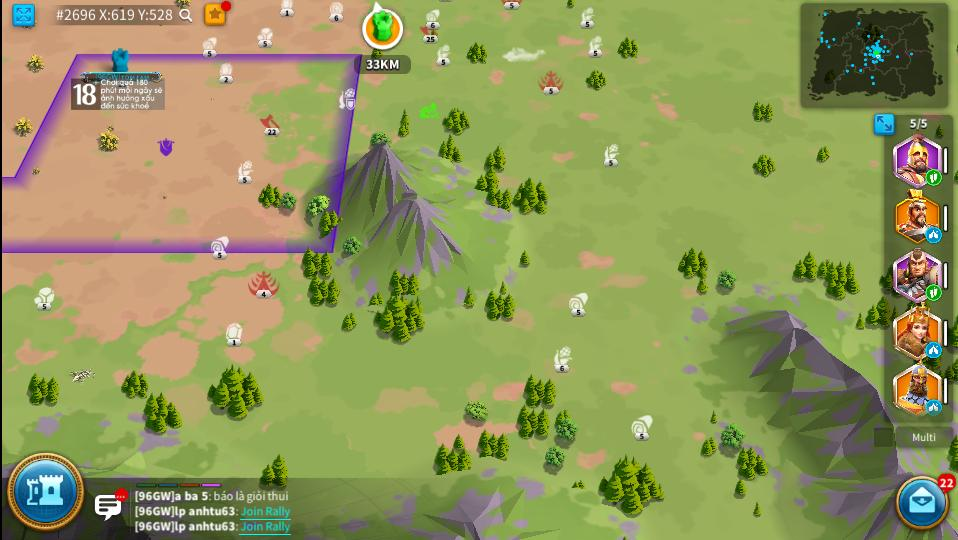gem-z-out: (226, 322, 243, 345), (219, 63, 232, 83), (280, 0, 294, 16)
march_idle: (925, 228, 942, 242), (928, 400, 940, 417), (928, 343, 940, 357)
march_marching: (926, 170, 940, 185), (926, 285, 940, 299)
